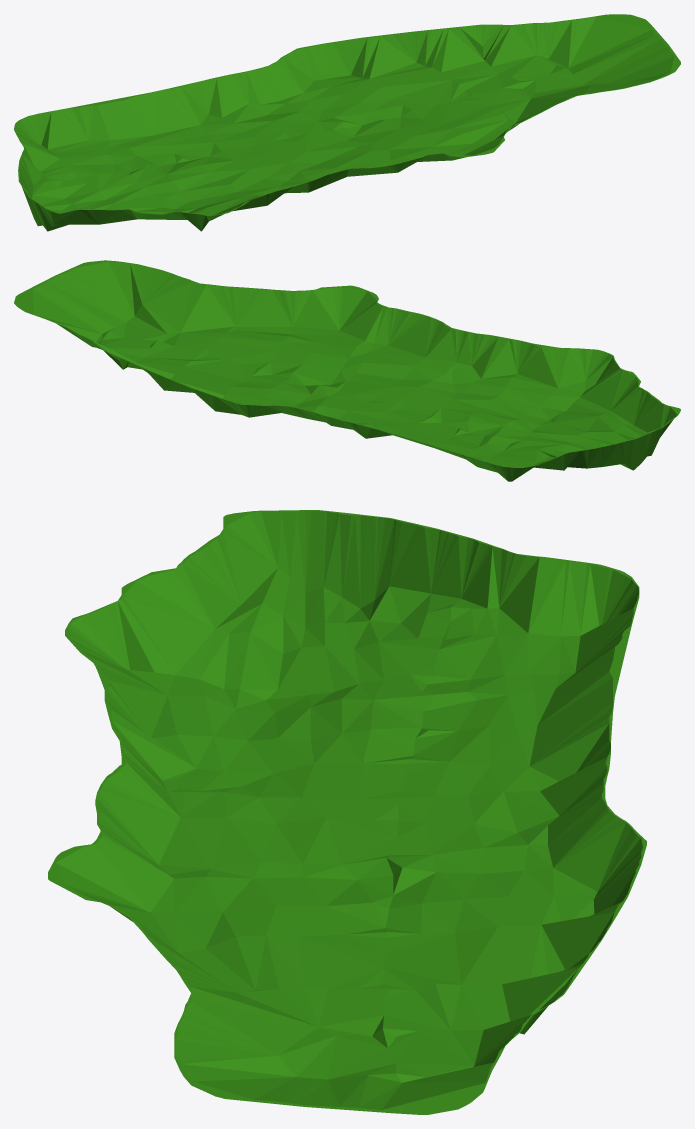
Rendered from delauney_reverse_color.glb.
3 views of the same model, one above another, from view 1: azimuth 30°, elevation 25°; view 2: azimuth 150°, elevation 25°; view 3: azimuth 270°, elevation 25° (orthographic). The views are drawn at different scales.
Parts seen in each view (by area): view 1: delaunay_obj_1.001; view 2: delaunay_obj_1.001; view 3: delaunay_obj_1.001.
Boxes of the visible parts, left/top/right/bottom form: delaunay_obj_1.001: left=14, top=14, right=680, bottom=231; delaunay_obj_1.001: left=14, top=260, right=680, bottom=481; delaunay_obj_1.001: left=48, top=510, right=646, bottom=1114.
Size of the model in its own units: 190 by 11.75 by 79.5.
